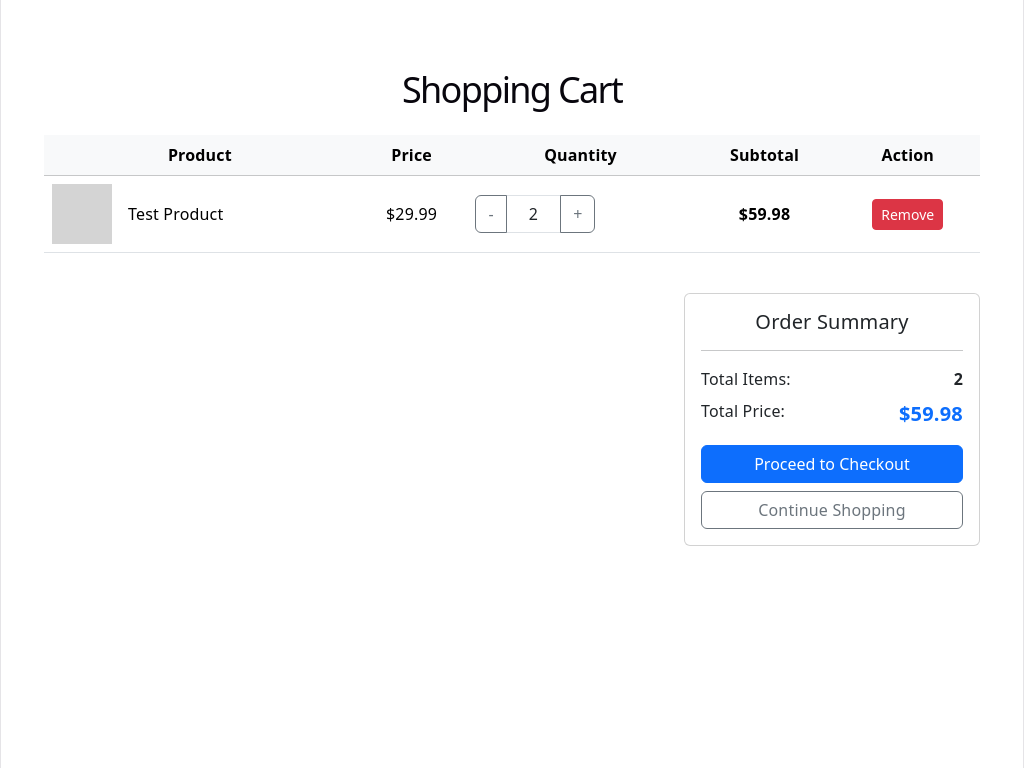
Test: Cart › shows Order Placed screen after successful checkout
Click the button "Proceed to Checkout": (832, 464) [701,445,963,483]
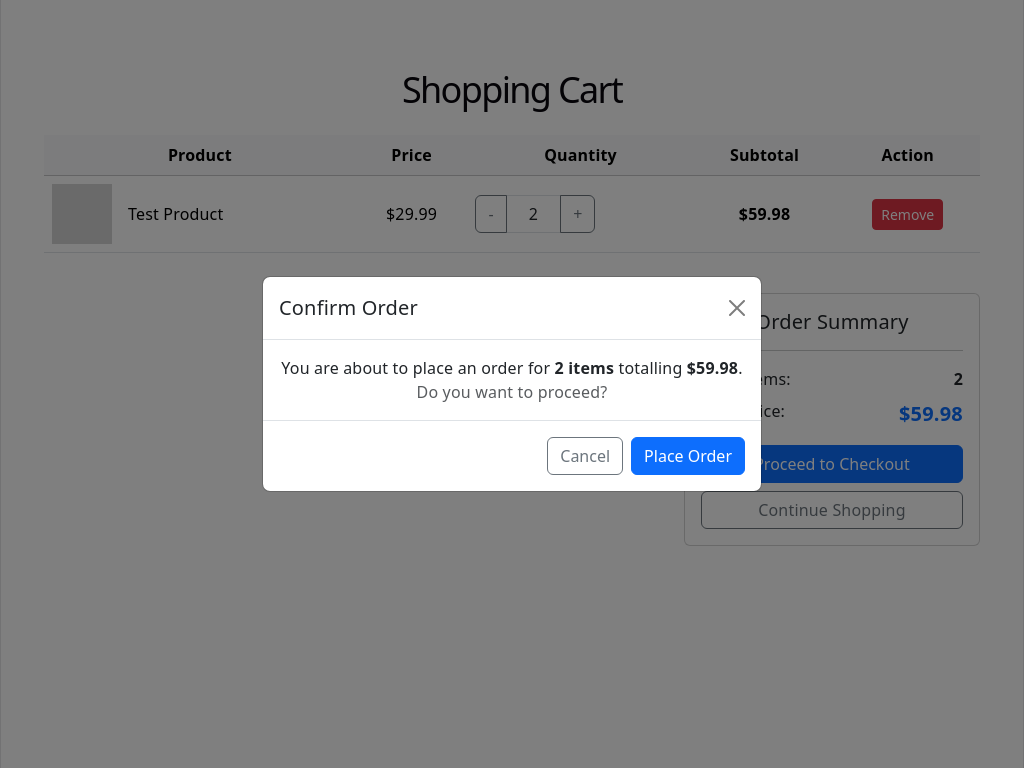
Click the button "Place Order": (688, 456) [631,437,745,475]
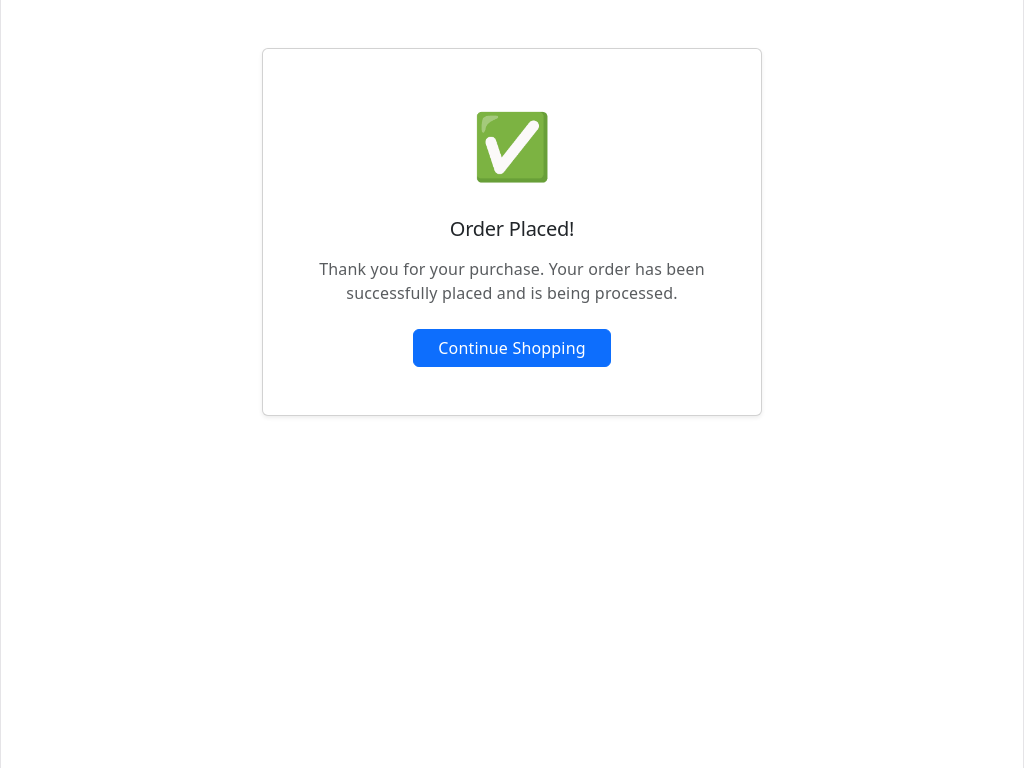
Expected: the heading "Order Placed!" is shown, [450,215,574,242]
